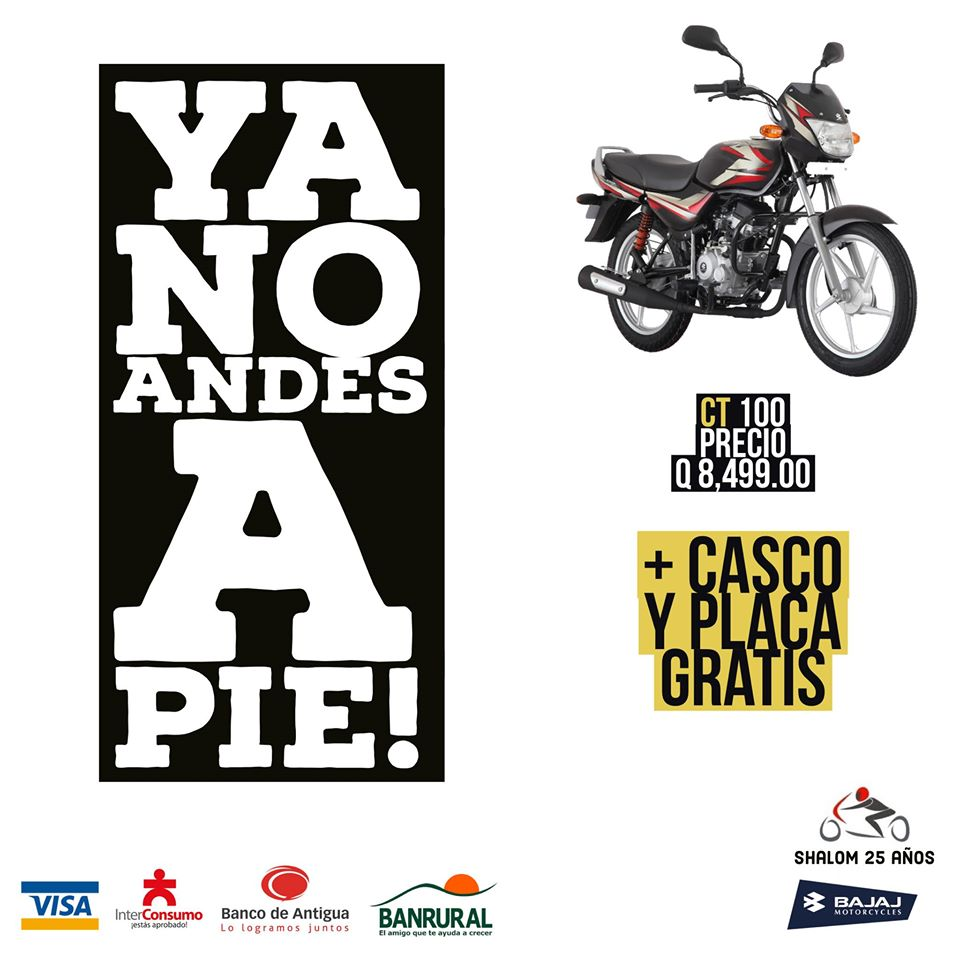moto: (550, 22, 923, 378)
